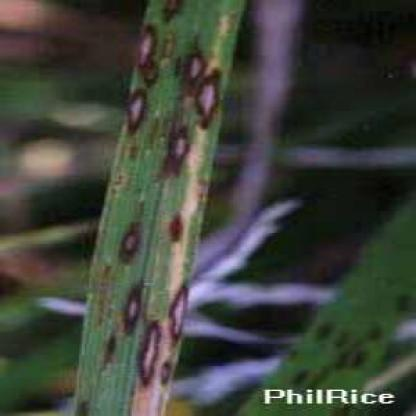Rice blast: (115, 215, 145, 281), (194, 74, 227, 130), (123, 85, 156, 137), (140, 320, 162, 393), (126, 281, 151, 339), (172, 273, 188, 345), (172, 127, 184, 169)
